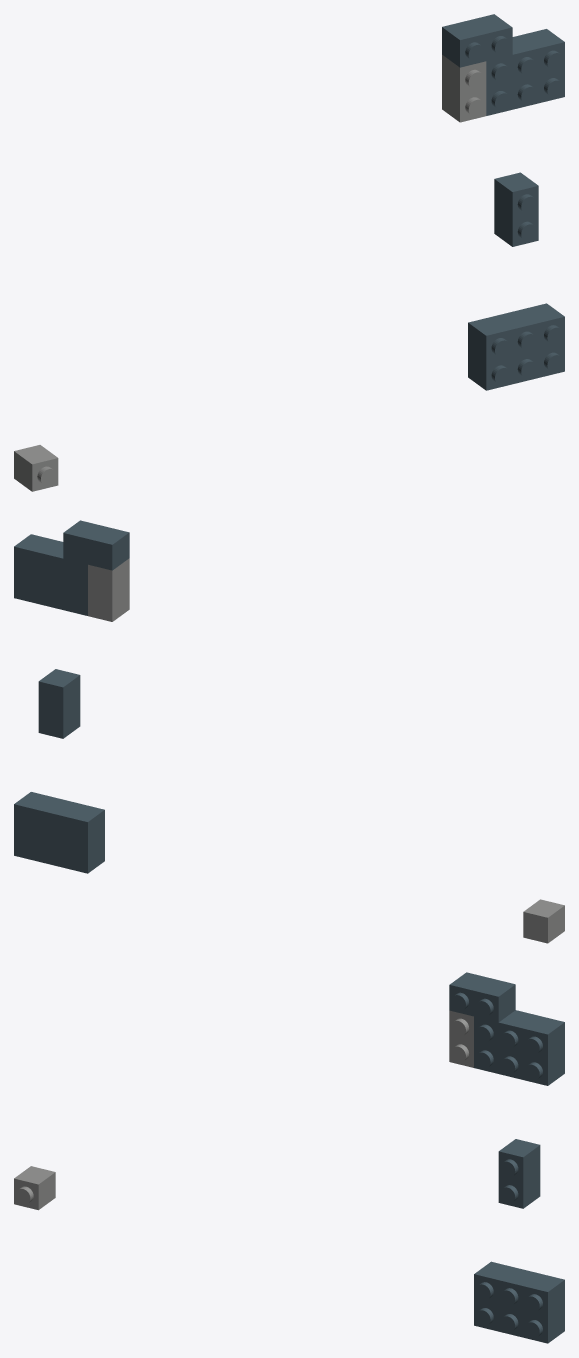
The model's file is current.glb.
The picture shows the model from 3 angles, top to bottom: view 1: azimuth 30°, elevation 25°; view 2: azimuth 150°, elevation 25°; view 3: azimuth 330°, elevation 25°; orthographic projection. The views are drawn at different scales.
Parts seen in each view (by area): view 1: world; view 2: world; view 3: world.
Part boxes in pixels (box(x1,y1,x2,y2)): world: box(14, 14, 564, 491); world: box(14, 520, 564, 943); world: box(14, 972, 564, 1343).
Size of the model in its own units: 168 by 104 by 21.
